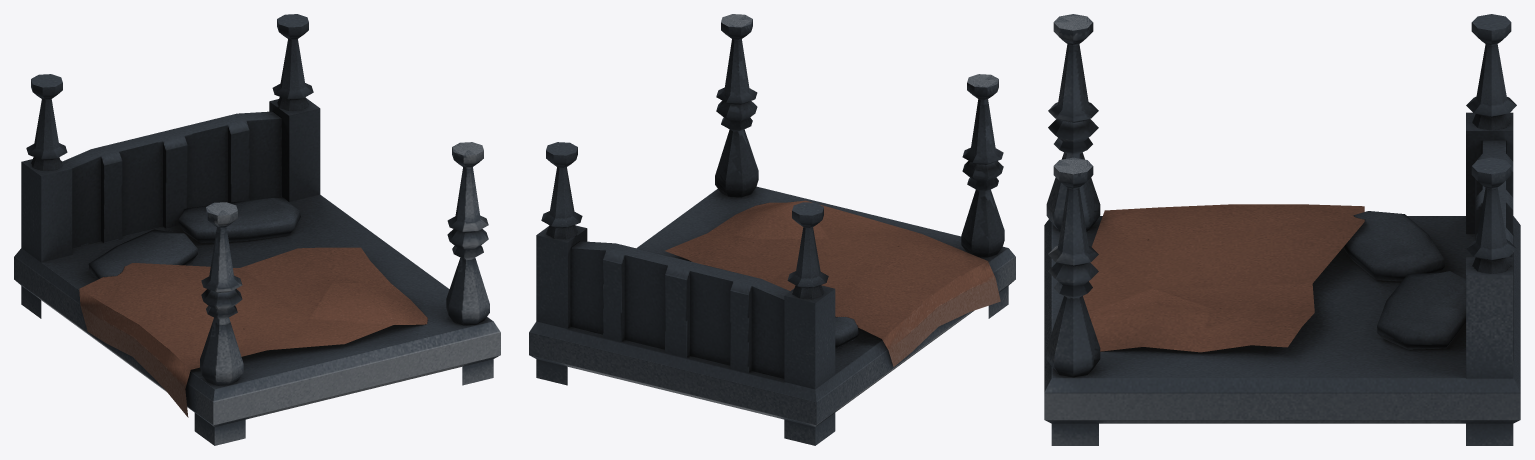
Rendered from OwnerBed.fbx.
3 views of the same model, side by side, from view 1: azimuth 30°, elevation 25°; view 2: azimuth 150°, elevation 25°; view 3: azimuth 270°, elevation 25° (orthographic). The views are drawn at different scales.
Parts seen in each view (by area): view 1: OwnerBed; view 2: OwnerBed; view 3: OwnerBed.
Part boxes in pixels (x1,y1,x2,y2): OwnerBed: (14,14,500,445); OwnerBed: (529,14,1015,445); OwnerBed: (1044,14,1520,445).
Bounding box in the file's own units: 0.0671 × 0.0496 × 0.0792.
